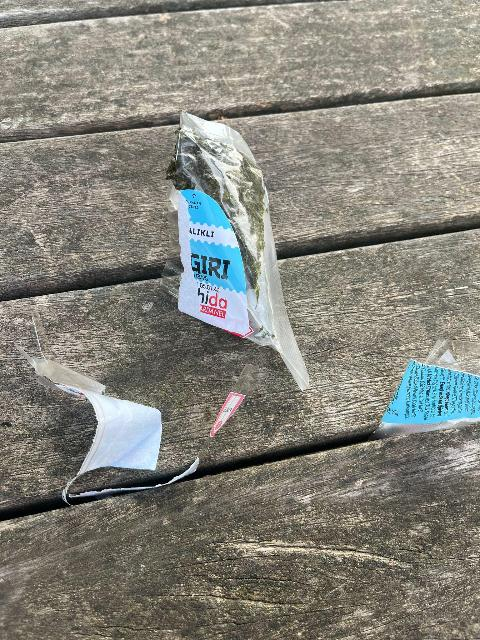Plastik: (161, 103, 320, 384), (14, 345, 209, 495), (373, 355, 480, 436)
